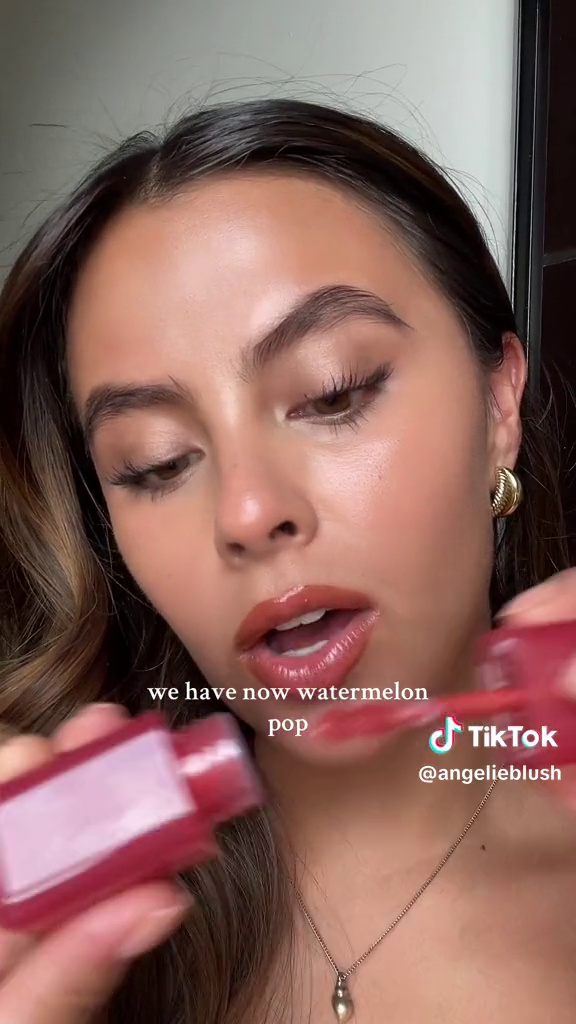train' :'yolo_data/train/images',: (1, 701, 248, 951), (328, 604, 576, 788)
